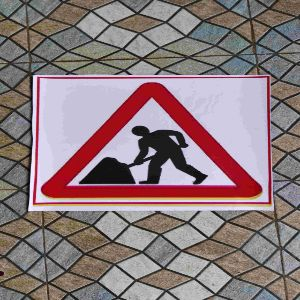men at work: (28, 75, 275, 208)
